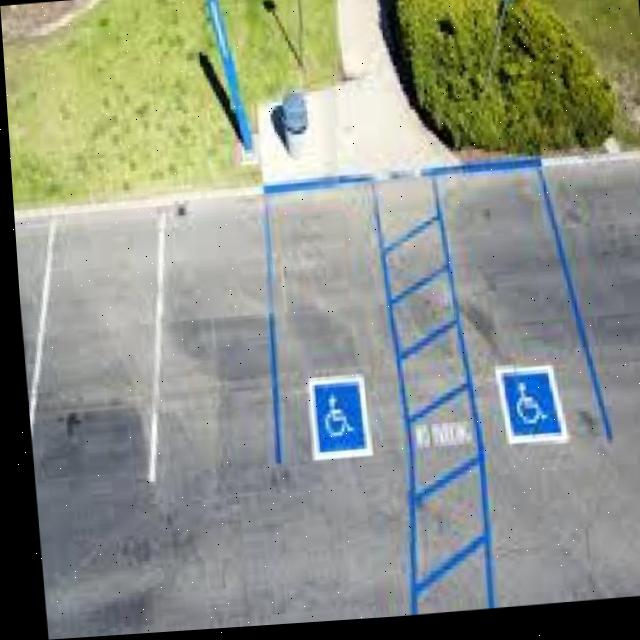symbol_of_access: (504, 387, 544, 434), (314, 394, 347, 444)
